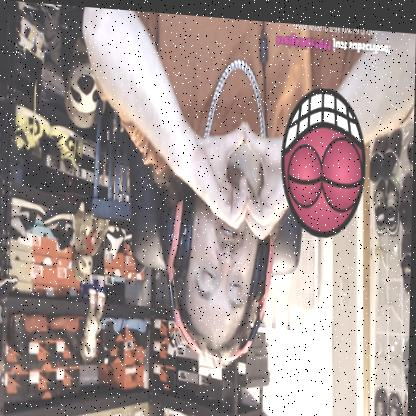donation: (271, 18, 393, 240)
streamer: (76, 5, 416, 380)
